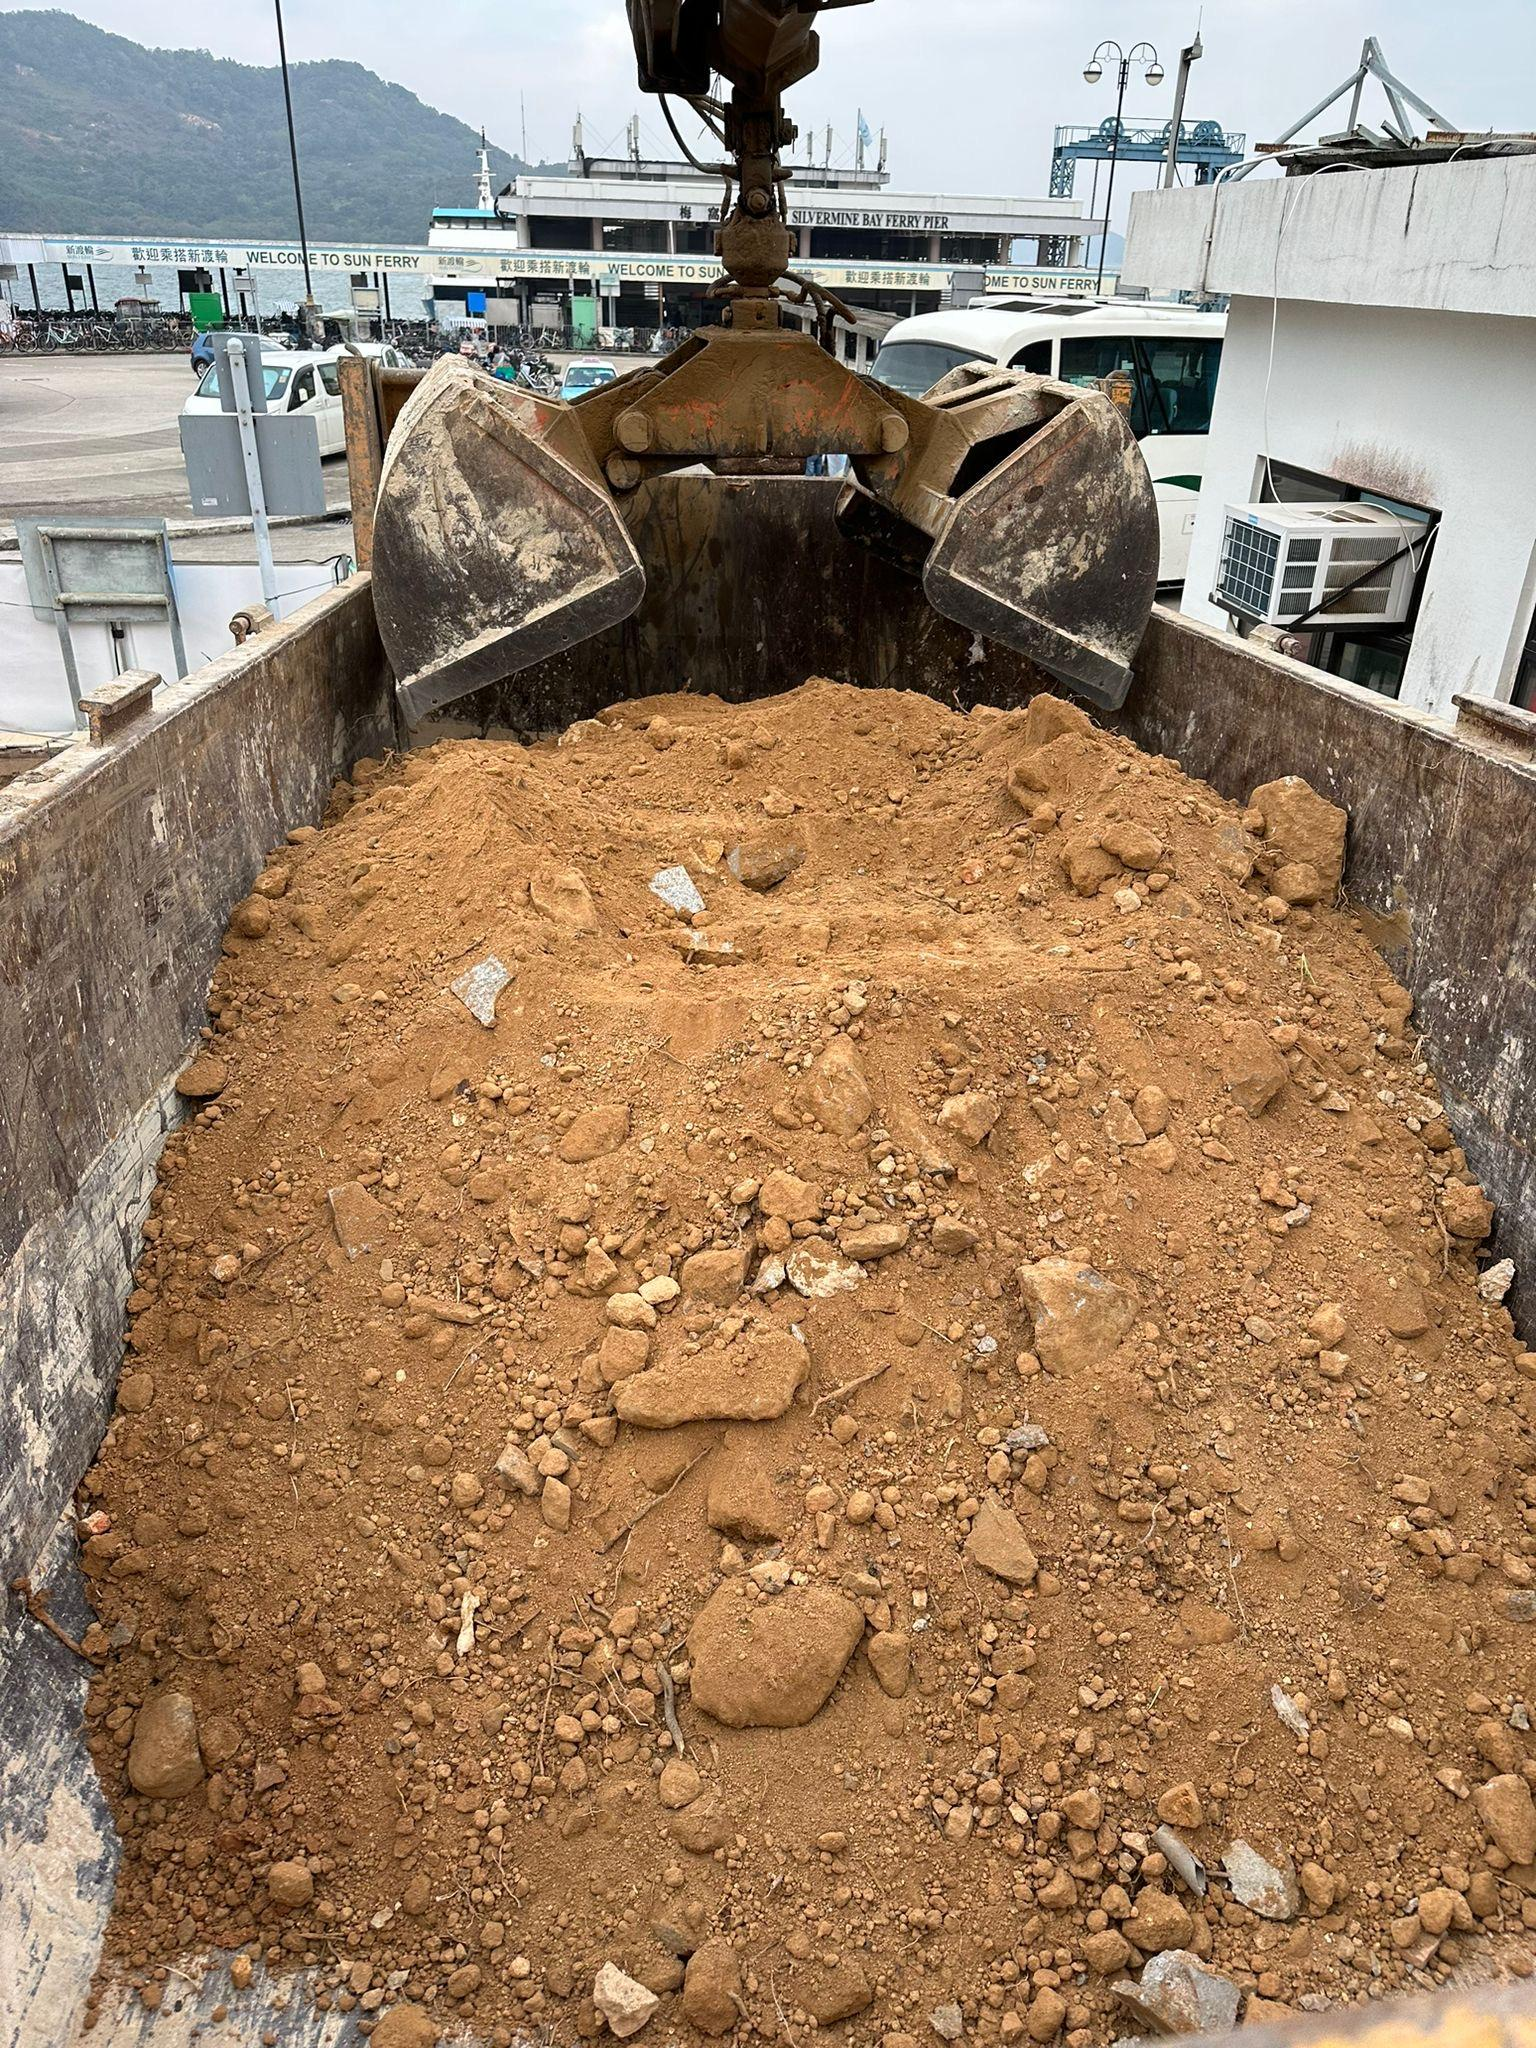dry: (80, 687, 1536, 2043)
